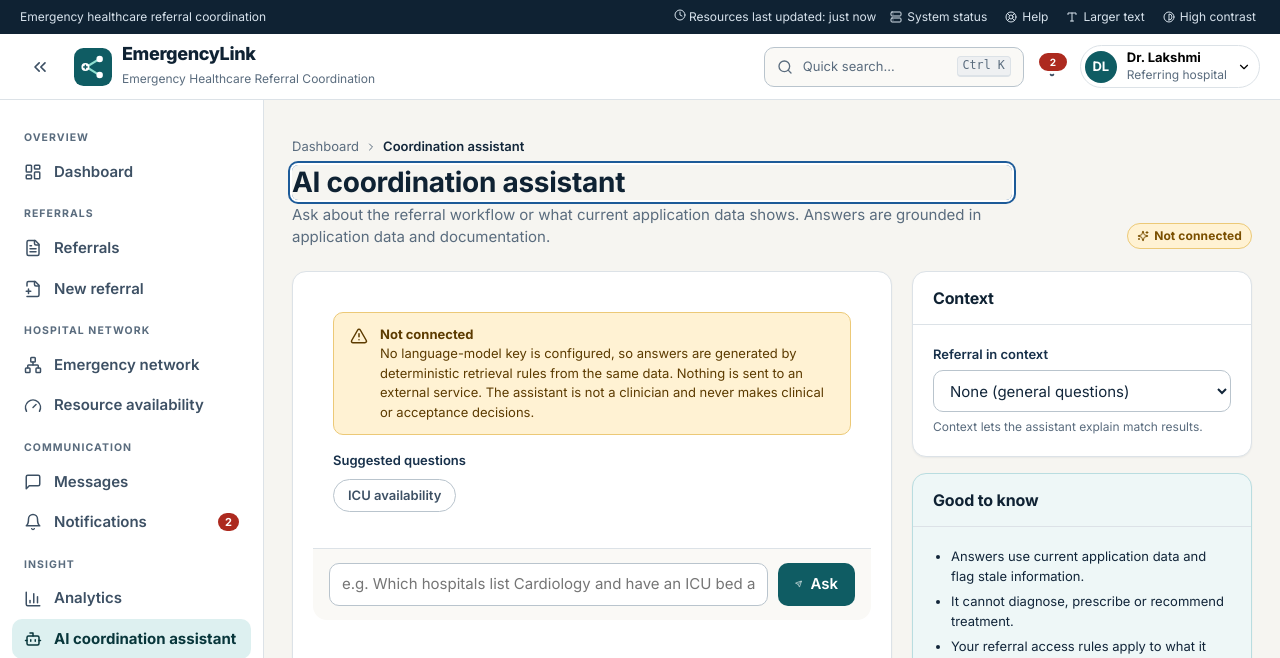
Scenario: authenticated screens › assistant answers with markdown, cards and an honest not-connected label
This screenshot has width=1280, height=658.
Click the button "ICU availability" at (395, 495), box [333,478,456,512]
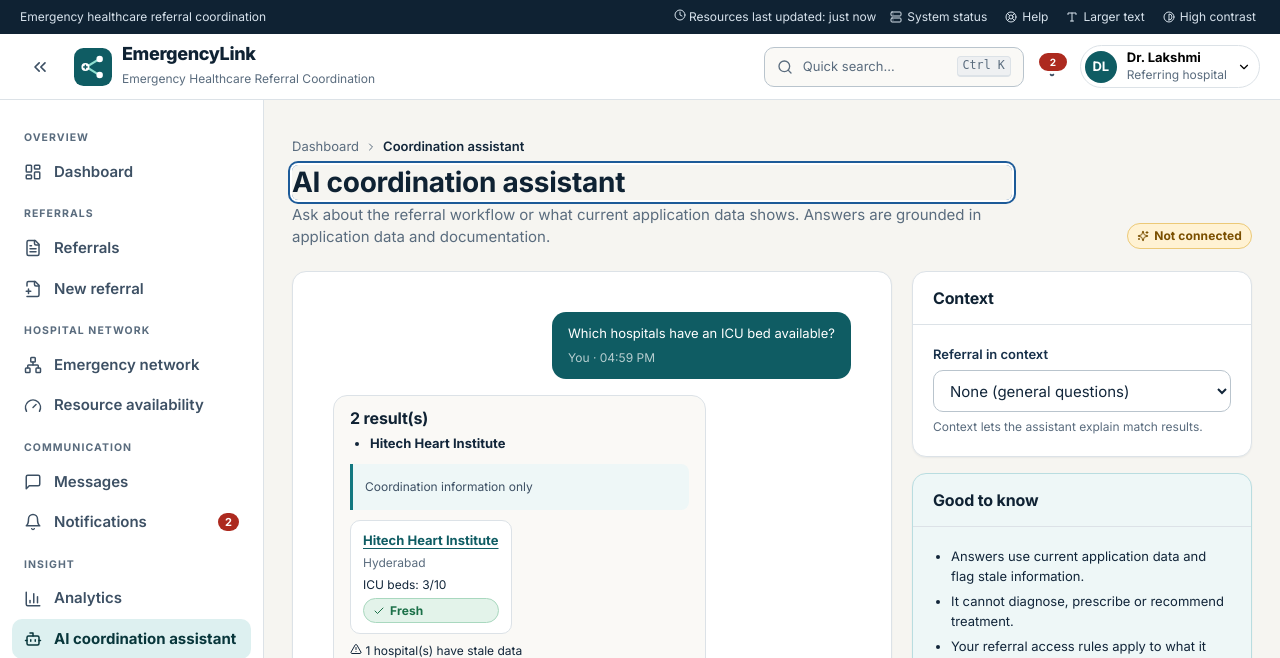
Check: the text "Not connected" is shown, box [1127,223,1252,248]
Check: the heading "2 result(s)" is shown, box [350,408,428,428]
Check: the text "Hitech Heart Institute" is shown, box [370,435,506,451]
